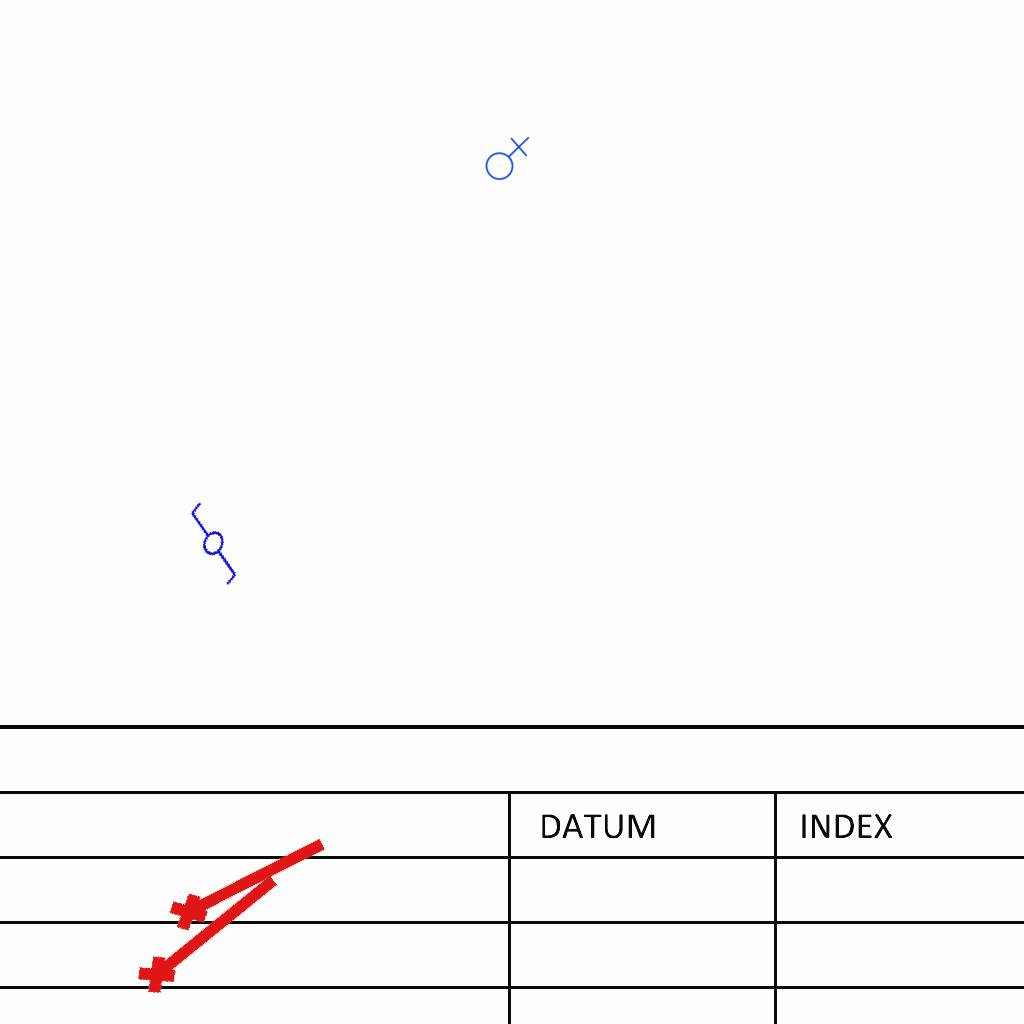ASR_Ansaugoeffnung: (125, 856, 291, 1004), (159, 818, 337, 940)
Elektroanschluss_allgemein_230V_Geraeteanschlussdose_230V: (481, 134, 530, 181)
Wechselschalter: (167, 490, 265, 590)
